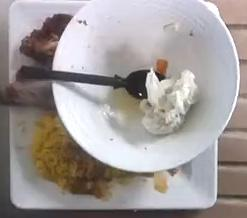rice: (32, 115, 105, 192)
